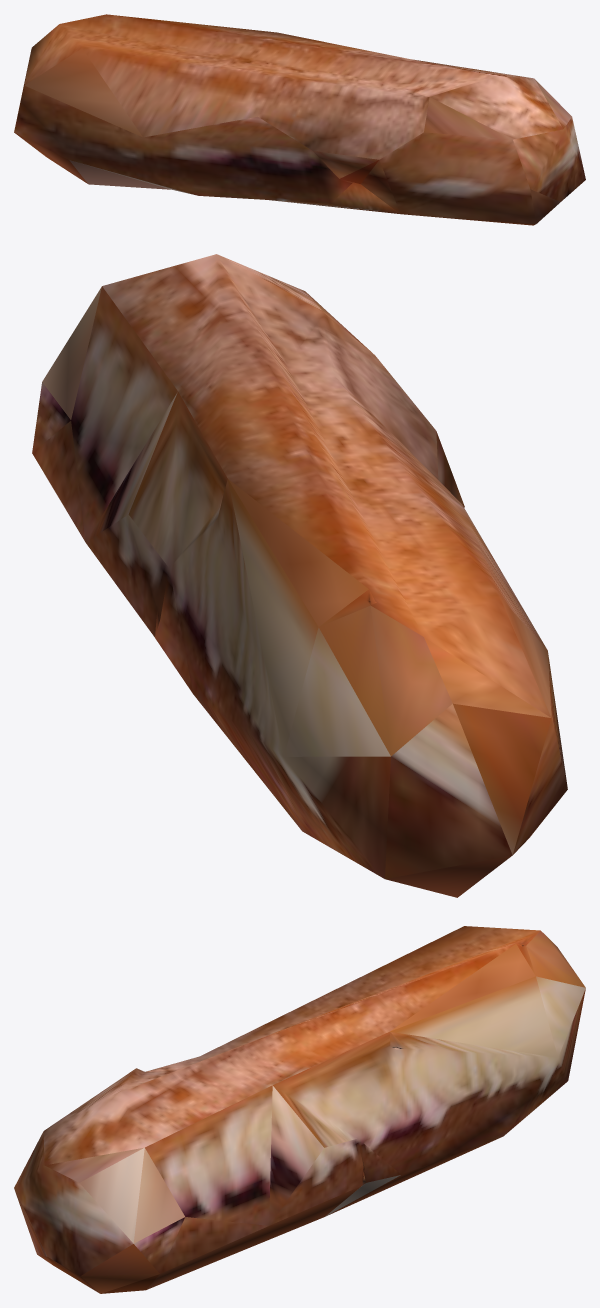
Rendered from eclaire_200.obj.
3 renders of one model, top to bottom at view 1: azimuth 30°, elevation 25°; view 2: azimuth 150°, elevation 25°; view 3: azimuth 270°, elevation 25°, orthographic. The views are drawn at different scales.
Bounding box in the file's own units: 93.5 × 30.64 × 91.43.
1 material, 1 textured.
